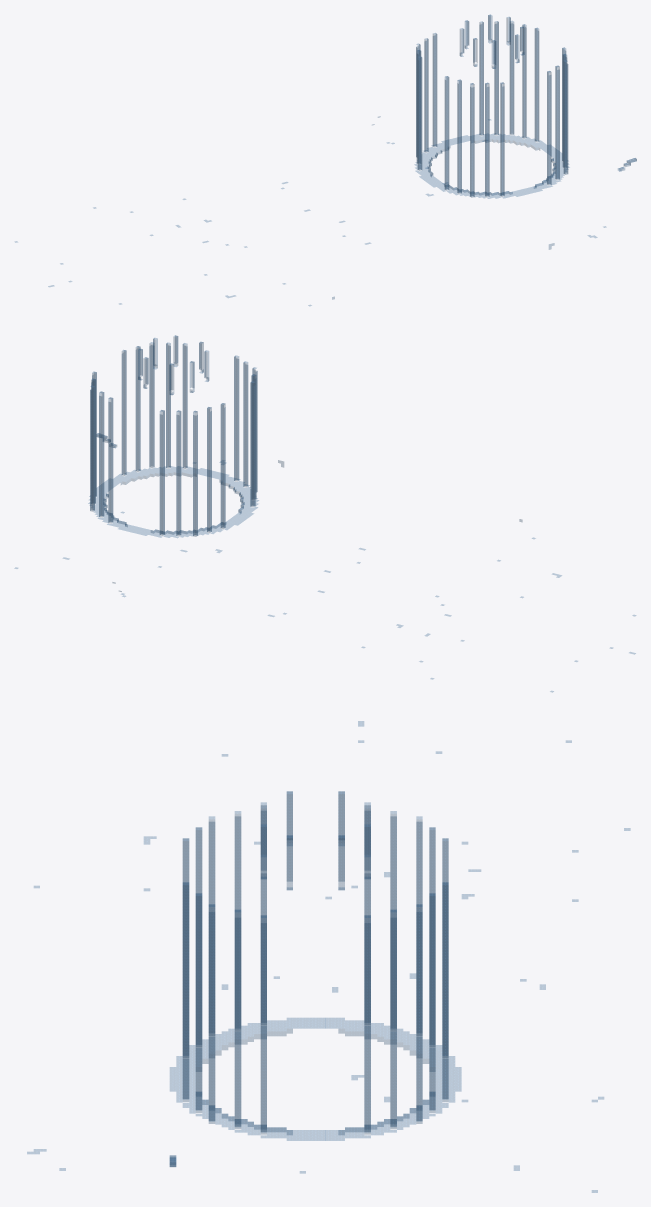
File: cathedral-water.glb
The picture shows the model from 3 angles, top to bottom: view 1: azimuth 30°, elevation 25°; view 2: azimuth 150°, elevation 25°; view 3: azimuth 270°, elevation 25°; orthographic projection. The views are drawn at different scales.
Parts seen in each view (by area): view 1: water; view 2: water; view 3: water.
Boxes of the visible parts, <box> form: water: <box>15,14,636,305</box>; water: <box>14,335,635,692</box>; water: <box>27,721,630,1192</box>.
Bounding box in the file's own units: 18.4 × 5.29 × 9.6.
1 material, 1 textured.
